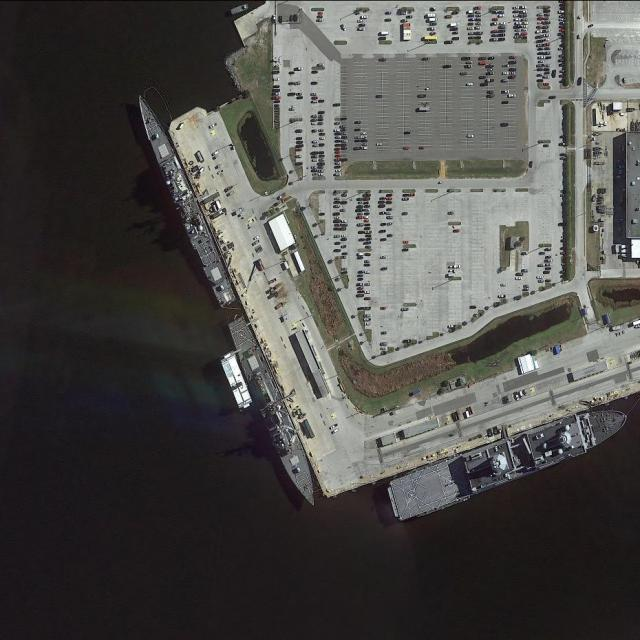Auxiliary Ships: (379, 398, 637, 522)
Cruiser: (131, 91, 235, 306)
Destroyer: (224, 315, 323, 509)
